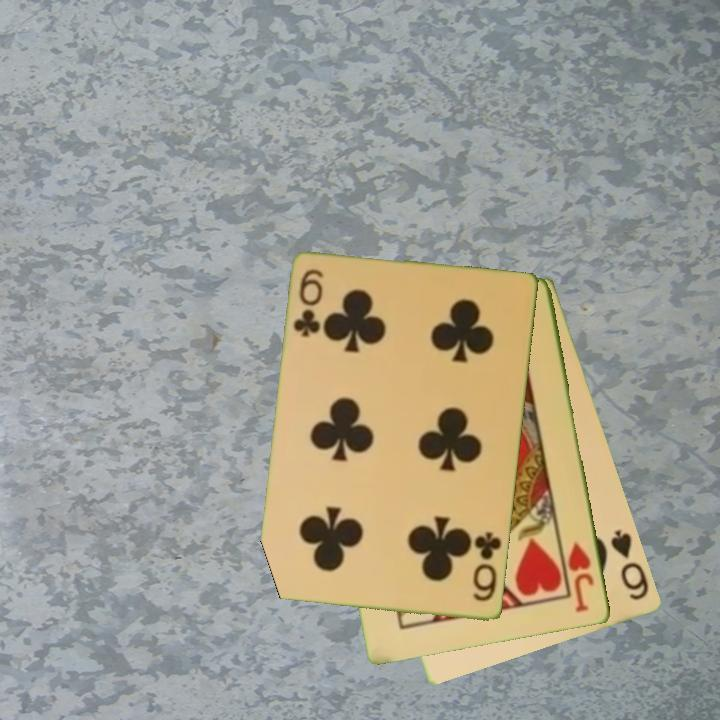6c: (290, 266, 327, 341), (469, 528, 505, 605)
6s: (607, 526, 652, 604)
Jh: (565, 539, 598, 616)
